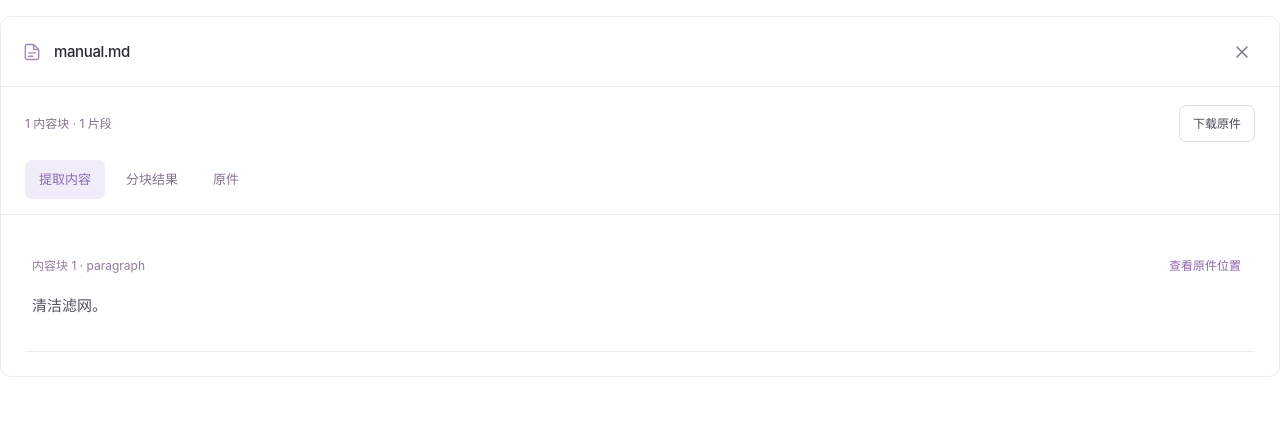
Scenario: Original source navigation › opens a chunk source in the original instead of losing its location
The width and height of the screenshot is (1280, 440).
Check: the text "清洁滤网。" is shown, box top-left (32, 296), bottom-right (107, 315)
Step 1. Click the button "分块结果" → [152, 180], box top-left (112, 160), bottom-right (192, 199)
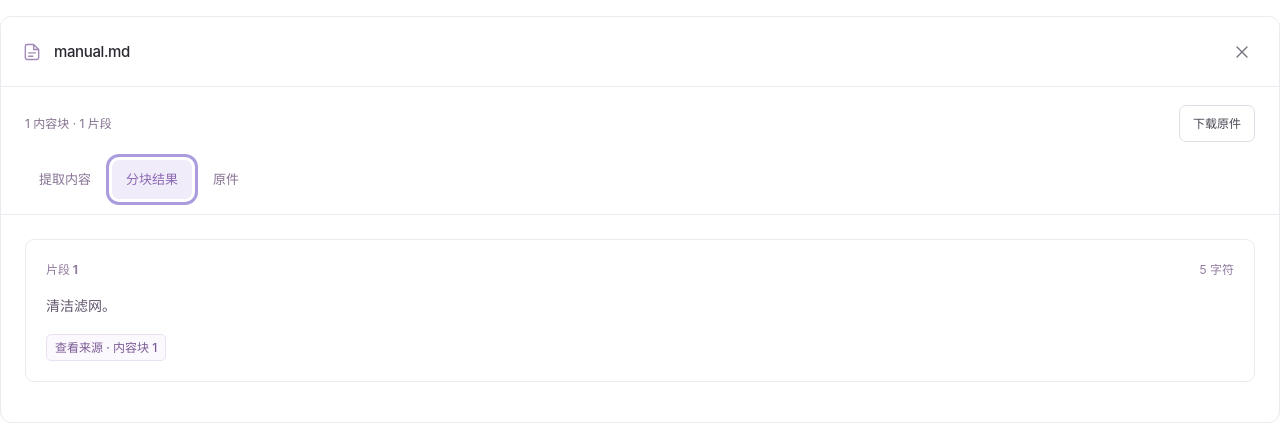
Step 2. Click the button "查看来源 · 内容块 1" → [106, 347], box top-left (46, 334), bottom-right (166, 361)
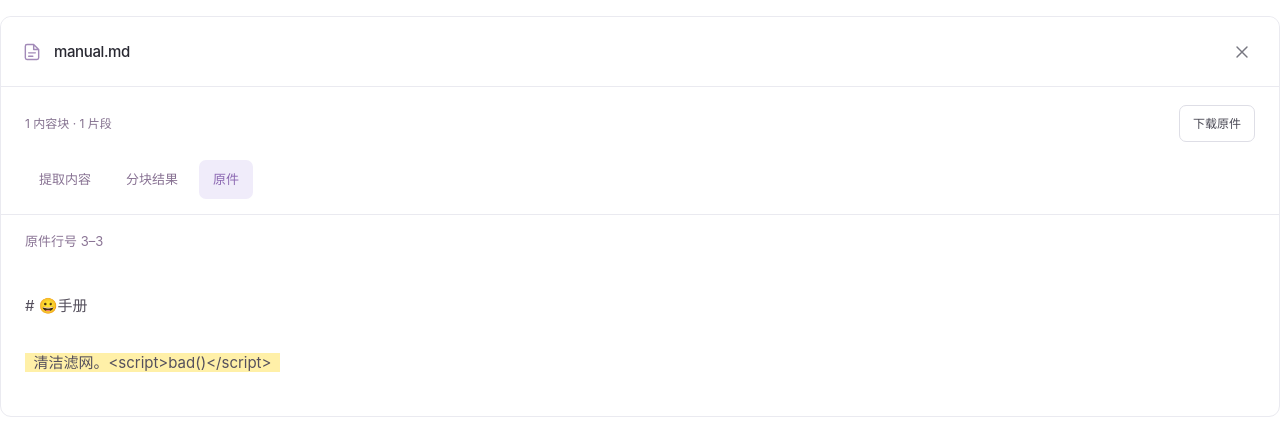
Check: the text "清洁滤网。<script>bad()</script>" is shown, box top-left (25, 353), bottom-right (280, 372)
